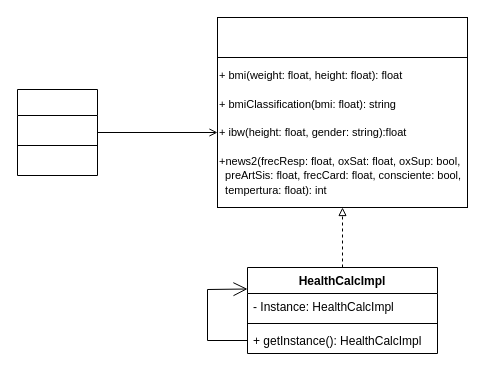
This 485x374 diagram has some shape labels left out. Each missing label, with the centre of its shape:
Main: (x=57, y=132)
«interface» HealthCalc: (x=342, y=37)
